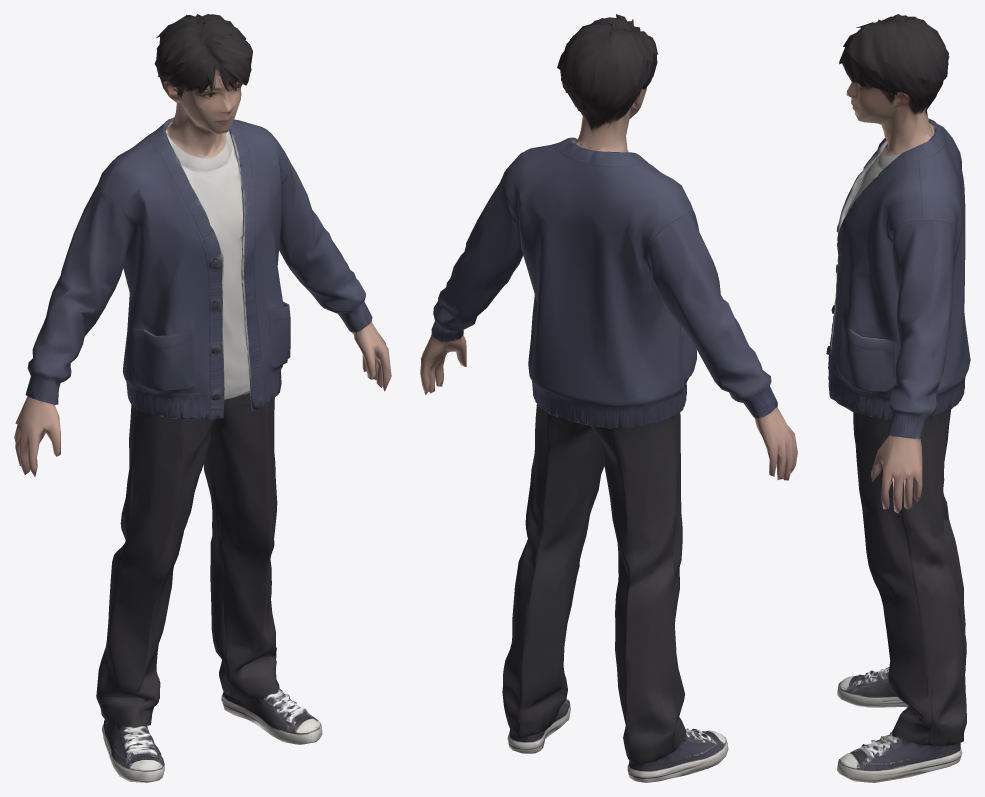
File: CHR_MAIN_v001_RAW.glb
3 views of the same model, side by side, from view 1: azimuth 30°, elevation 25°; view 2: azimuth 150°, elevation 25°; view 3: azimuth 270°, elevation 25° (orthographic).
Parts seen in each view (by area): view 1: tripo_node_88995f5d-c831-45ab-981c-2ff5a8f49f2a; view 2: tripo_node_88995f5d-c831-45ab-981c-2ff5a8f49f2a; view 3: tripo_node_88995f5d-c831-45ab-981c-2ff5a8f49f2a.
Part boxes in pixels (x1,y1,x2,y2): tripo_node_88995f5d-c831-45ab-981c-2ff5a8f49f2a: [14, 14, 391, 782]; tripo_node_88995f5d-c831-45ab-981c-2ff5a8f49f2a: [420, 14, 797, 782]; tripo_node_88995f5d-c831-45ab-981c-2ff5a8f49f2a: [826, 14, 970, 782].
Bounding box in the file's own units: 0.5182 × 0.9793 × 0.1784.
Materials: 1 (1 with a texture image).
